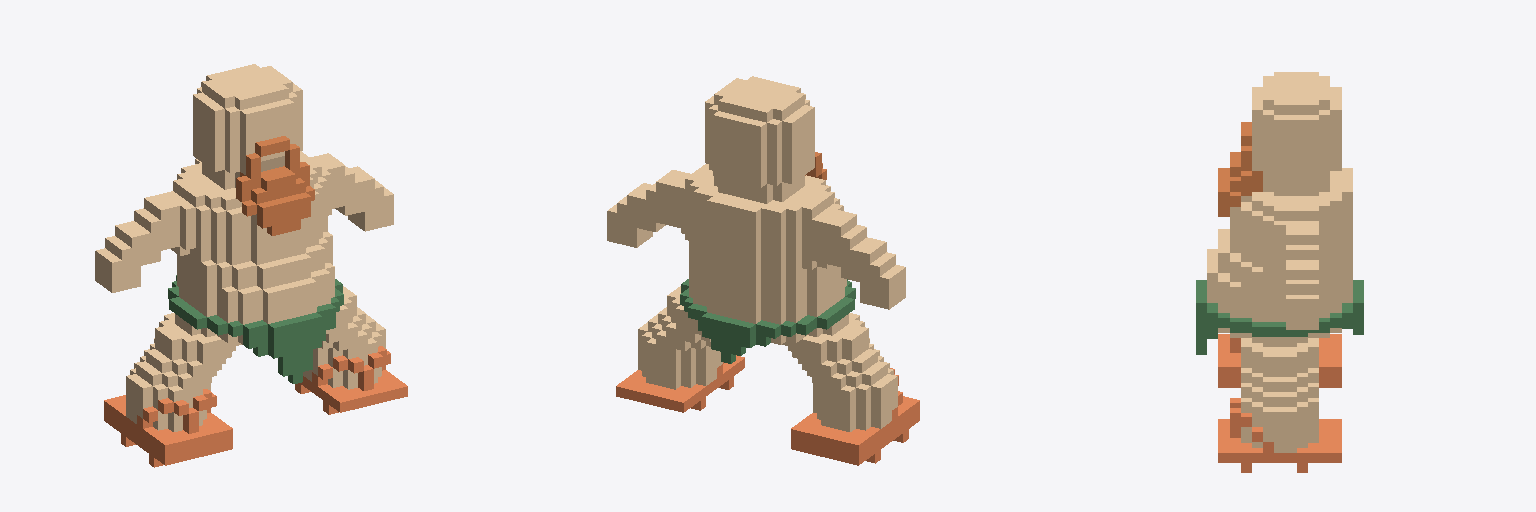
3 views of the same model, side by side, from view 1: azimuth 30°, elevation 25°; view 2: azimuth 150°, elevation 25°; view 3: azimuth 270°, elevation 25° (orthographic).
Bounding box in the file's own units: 29 × 33 × 15.
Materials: 1 (1 with a texture image).